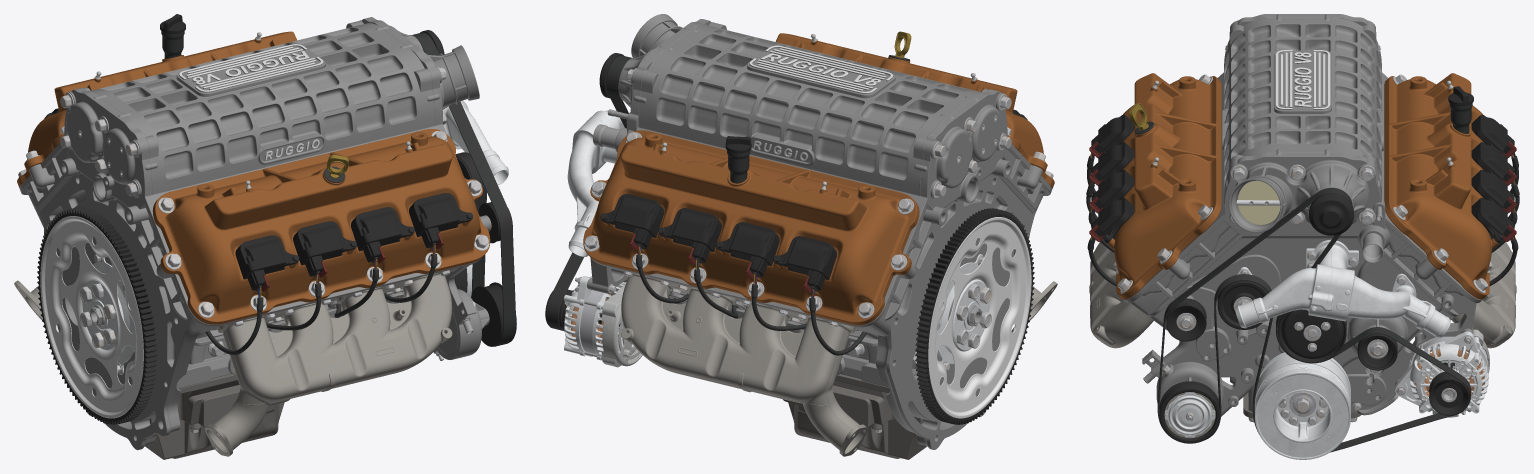
File: engineAssembly_v8_engine_a01.glb
The picture shows the model from 3 angles, left to right: view 1: azimuth 30°, elevation 25°; view 2: azimuth 150°, elevation 25°; view 3: azimuth 270°, elevation 25°; orthographic projection. The views are drawn at different scales.
Visible parts, largest first — view 1: engine_01_mesh_00, gear_01_mesh_00, strap_01_mesh_00, gear_03_mesh_00; view 2: engine_01_mesh_00, gear_01_mesh_00, strap_01_mesh_00; view 3: engine_01_mesh_00, gear_02_mesh_00, strap_01_mesh_00, gear_03_mesh_00, gear_06_mesh_00, gear_09_mesh_00, gear_08_mesh_00, gear_04_mesh_00, gear_05_mesh_00, gear_07_mesh_00.
Boxes of the visible parts, x1,y1,x2,y2 form: engine_01_mesh_00: (14, 14, 508, 459); gear_01_mesh_00: (37, 207, 156, 424); strap_01_mesh_00: (411, 32, 515, 346); gear_03_mesh_00: (471, 282, 516, 346); engine_01_mesh_00: (564, 14, 1057, 459); gear_01_mesh_00: (915, 208, 1034, 424); strap_01_mesh_00: (546, 55, 631, 331); engine_01_mesh_00: (1086, 14, 1519, 422); gear_02_mesh_00: (1255, 352, 1350, 459); strap_01_mesh_00: (1157, 188, 1470, 452); gear_03_mesh_00: (1159, 381, 1220, 443); gear_06_mesh_00: (1278, 309, 1346, 363); gear_09_mesh_00: (1309, 193, 1353, 235); gear_08_mesh_00: (1429, 362, 1469, 415); gear_04_mesh_00: (1166, 298, 1206, 341); gear_05_mesh_00: (1217, 281, 1268, 329); gear_07_mesh_00: (1357, 333, 1397, 370).
Bounding box in the file's own units: 0.896 × 0.791 × 0.8798.
20 materials, 7 textured.
